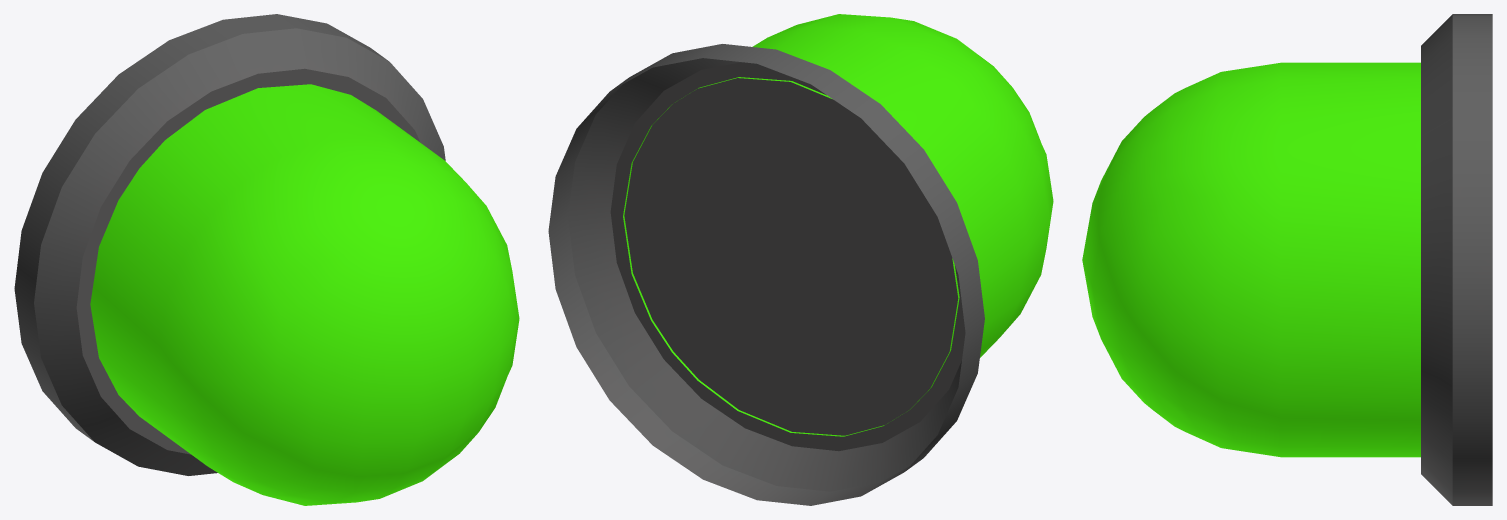
The model's file is LightBulbRef.fbx.
The picture shows the model from 3 angles, left to right: view 1: azimuth 30°, elevation 25°; view 2: azimuth 150°, elevation 25°; view 3: azimuth 270°, elevation 25°; orthographic projection. The views are drawn at different scales.
Visible parts, largest first — view 1: LightBulbRef; view 2: LightBulbRef; view 3: LightBulbRef.
Part boxes in pixels (x1,y1,x2,y2): LightBulbRef: [14, 14, 519, 505]; LightBulbRef: [548, 14, 1053, 505]; LightBulbRef: [1082, 14, 1492, 505].
Size of the model in its own units: 18.6 by 18.6 by 15.46.
